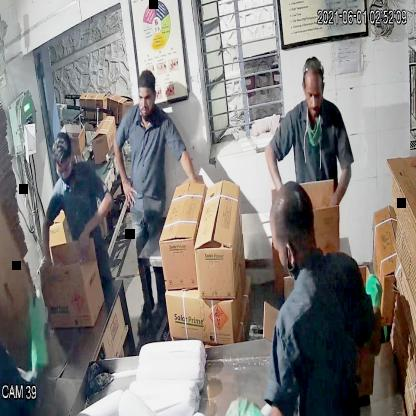goggles: (52, 158, 76, 179)
no_goggles: (298, 84, 332, 106), (134, 86, 160, 111)
